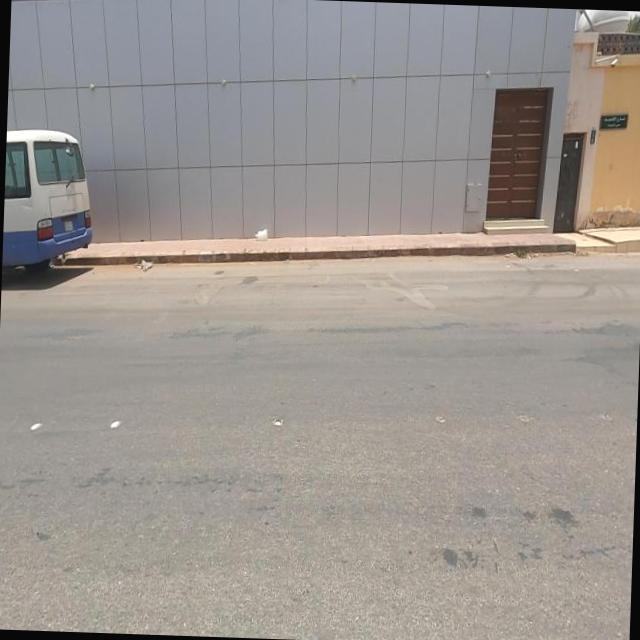debris: (110, 223, 190, 314), (226, 212, 292, 264)
